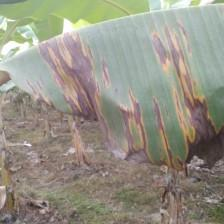sigatoka: (0, 0, 224, 171)
